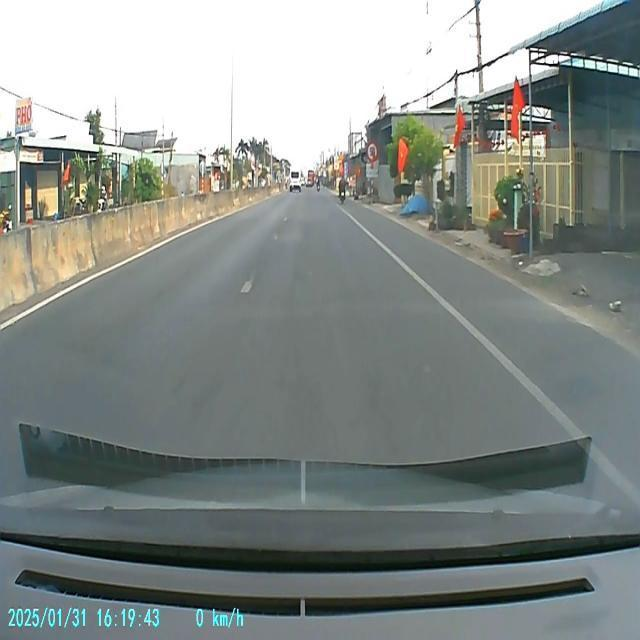127-toc-do-toi-da-50: (366, 142, 378, 162)
